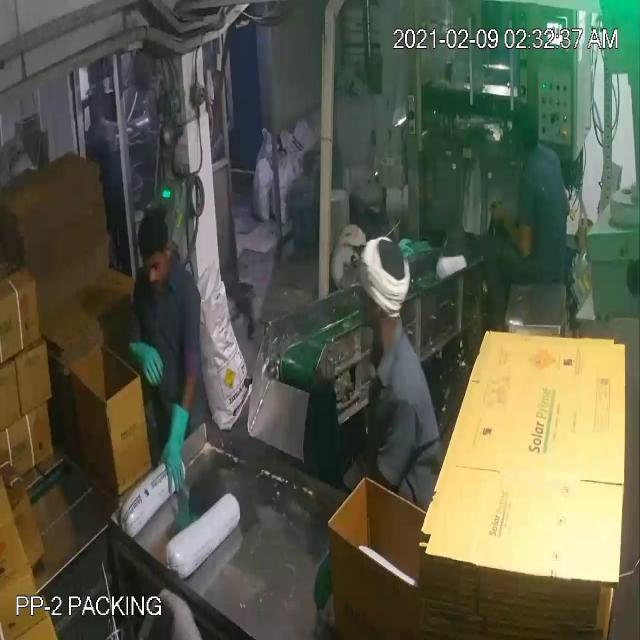Gloves: (46, 74, 511, 460)
